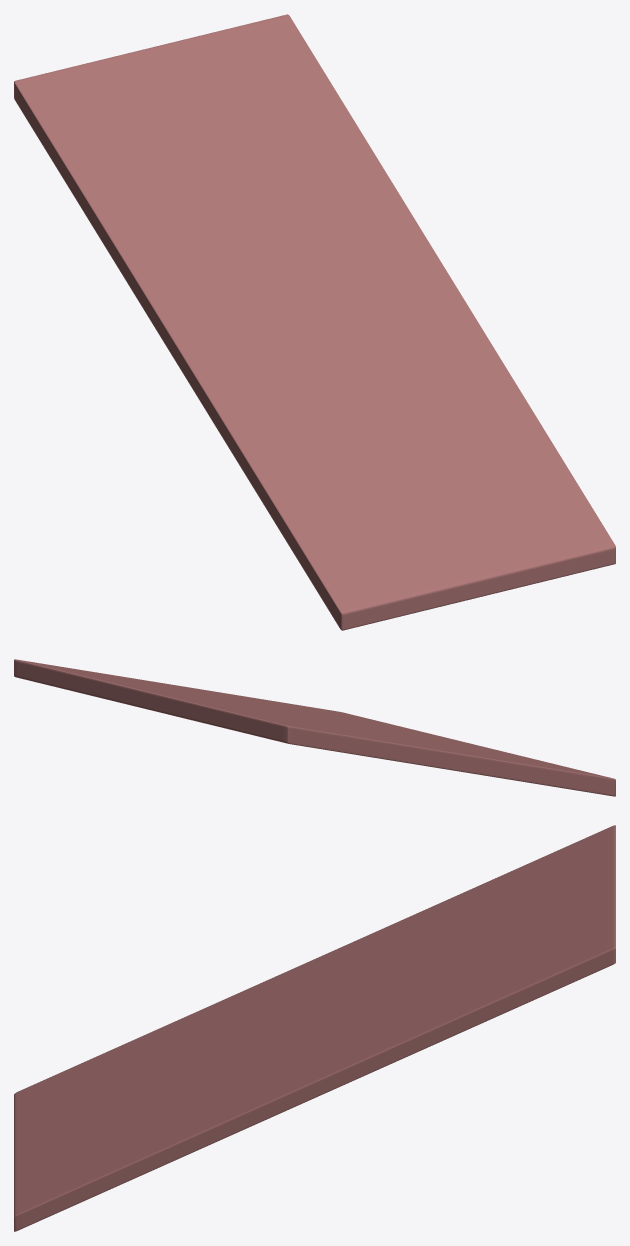
Rendered from StairCaseFoundation_High.fbx.
3 renders of one model, top to bottom at view 1: azimuth 30°, elevation 25°; view 2: azimuth 150°, elevation 25°; view 3: azimuth 270°, elevation 25°, orthographic. The views are drawn at different scales.
Parts seen in each view (by area): view 1: StairCaseFoundation_High; view 2: StairCaseFoundation_High; view 3: StairCaseFoundation_High.
Part boxes in pixels (x1,y1,x2,y2): StairCaseFoundation_High: (14,14,615,630); StairCaseFoundation_High: (14,659,615,796); StairCaseFoundation_High: (14,825,615,1231).
Size of the model in its own units: 8 by 8.61 by 16.52.
